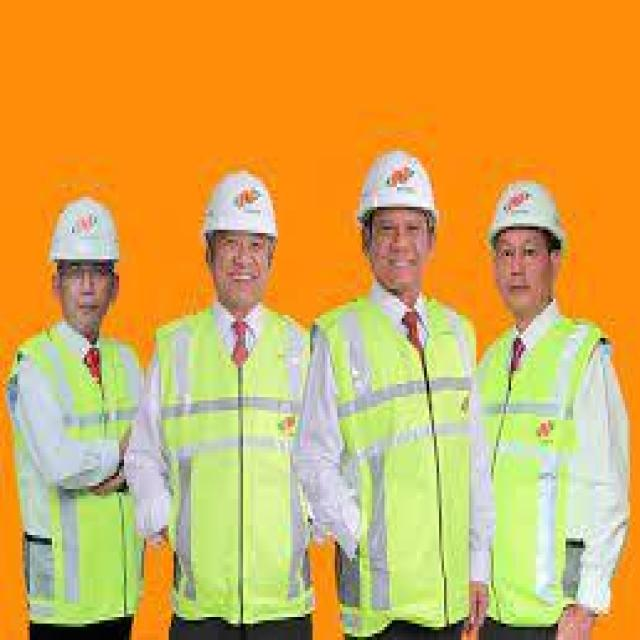vest: (317, 302, 474, 637), (158, 316, 312, 618), (468, 315, 612, 627), (13, 325, 142, 617)
